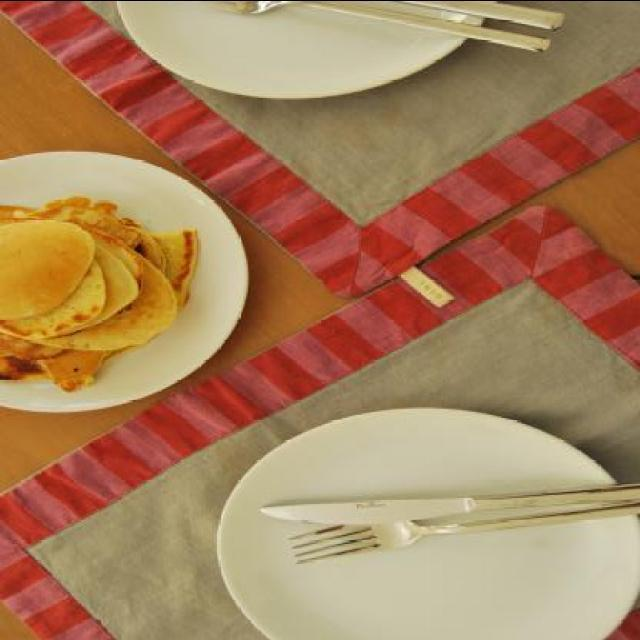Pancake: (0, 195, 203, 392)
